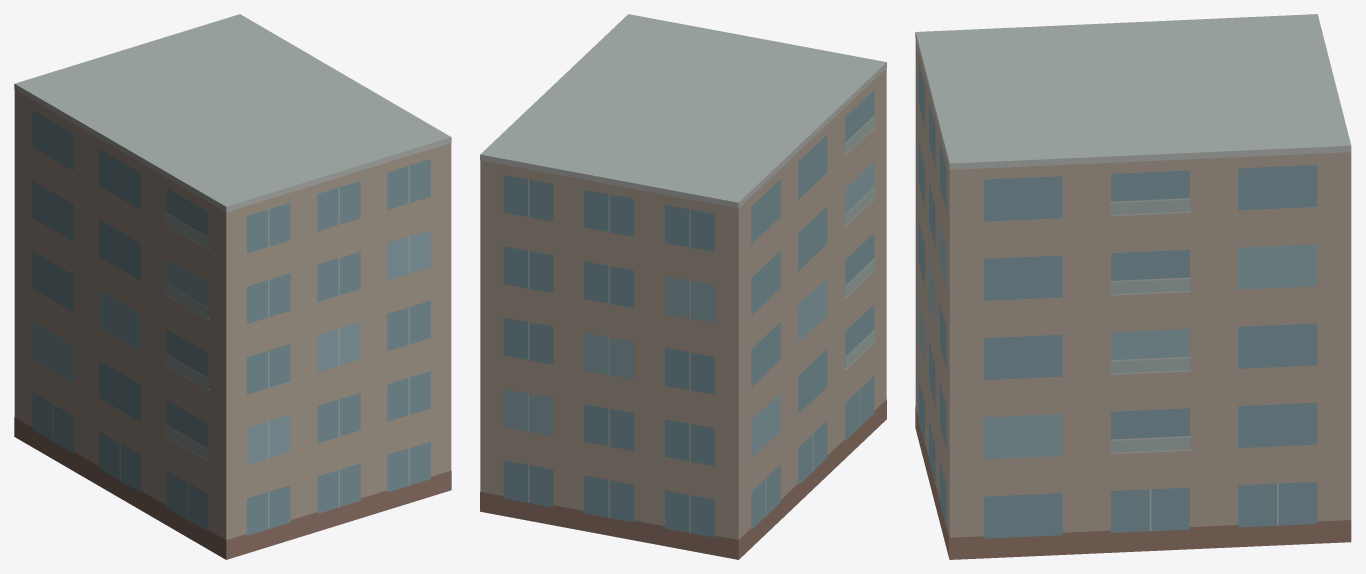
The model's file is survey-upis-32663625.glb.
3 renders of one model, left to right at view 1: azimuth 30°, elevation 25°; view 2: azimuth 150°, elevation 25°; view 3: azimuth 270°, elevation 25°, orthographic. The views are drawn at different scales.
Parts seen in each view (by area): view 1: survey-upis-32663625.tmp; view 2: survey-upis-32663625.tmp; view 3: survey-upis-32663625.tmp.
Part boxes in pixels (box(x1,y1,x2,y2)): survey-upis-32663625.tmp: box(14, 14, 451, 559); survey-upis-32663625.tmp: box(480, 14, 886, 559); survey-upis-32663625.tmp: box(915, 14, 1351, 559).
Size of the model in its own units: 12.35 by 15.25 by 15.21.
